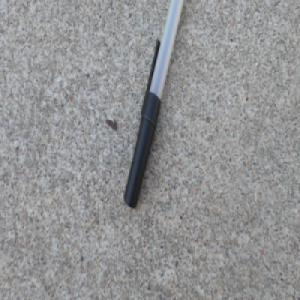Pen: (122, 0, 185, 211)
